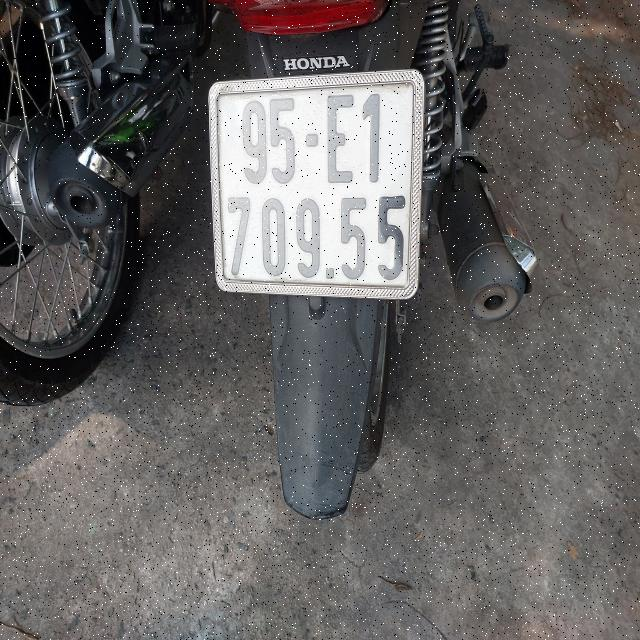0: (260, 194, 288, 281)
1: (358, 89, 385, 183)
5: (339, 194, 370, 283), (375, 192, 405, 282), (269, 92, 297, 184)
7: (224, 194, 254, 276)
9: (295, 193, 324, 284), (242, 100, 268, 182)
E: (325, 87, 355, 187)
